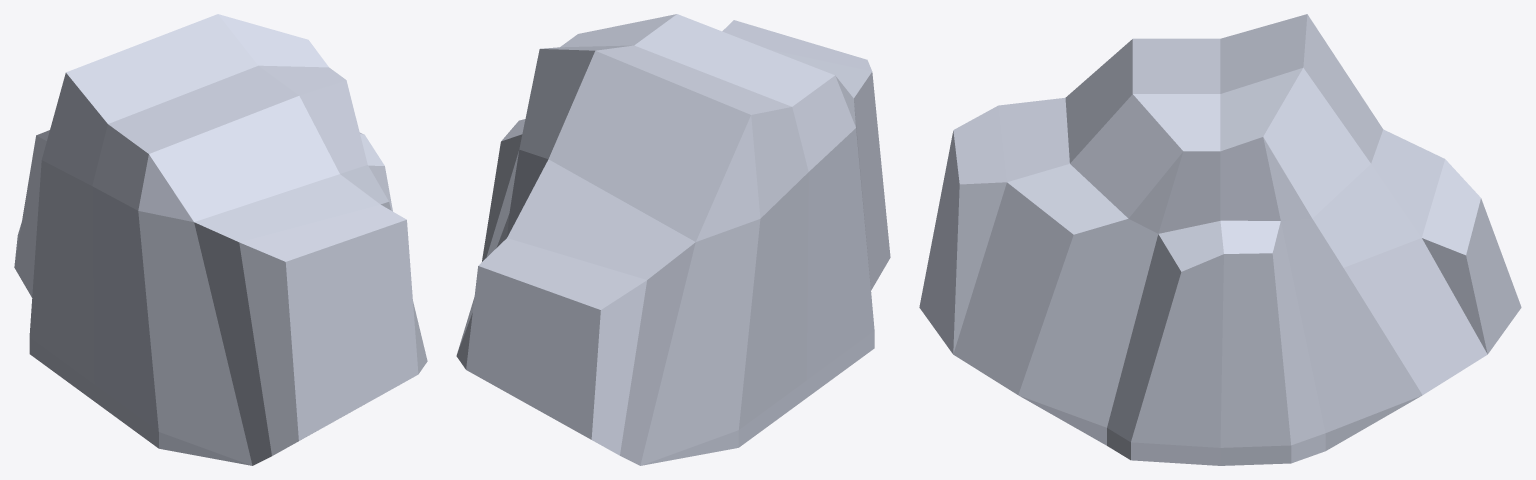
File: rock_4.glb
3 renders of one model, left to right at view 1: azimuth 30°, elevation 25°; view 2: azimuth 150°, elevation 25°; view 3: azimuth 270°, elevation 25°, orthographic. The views are drawn at different scales.
Visible parts, largest first — view 1: Rock_4; view 2: Rock_4; view 3: Rock_4.
Boxes of the visible parts, box(x1,y1,x2,y2) form: Rock_4: box(14, 14, 427, 465); Rock_4: box(456, 14, 890, 465); Rock_4: box(919, 14, 1521, 465).
Size of the model in its own units: 0.7435 by 0.7837 by 1.25.
